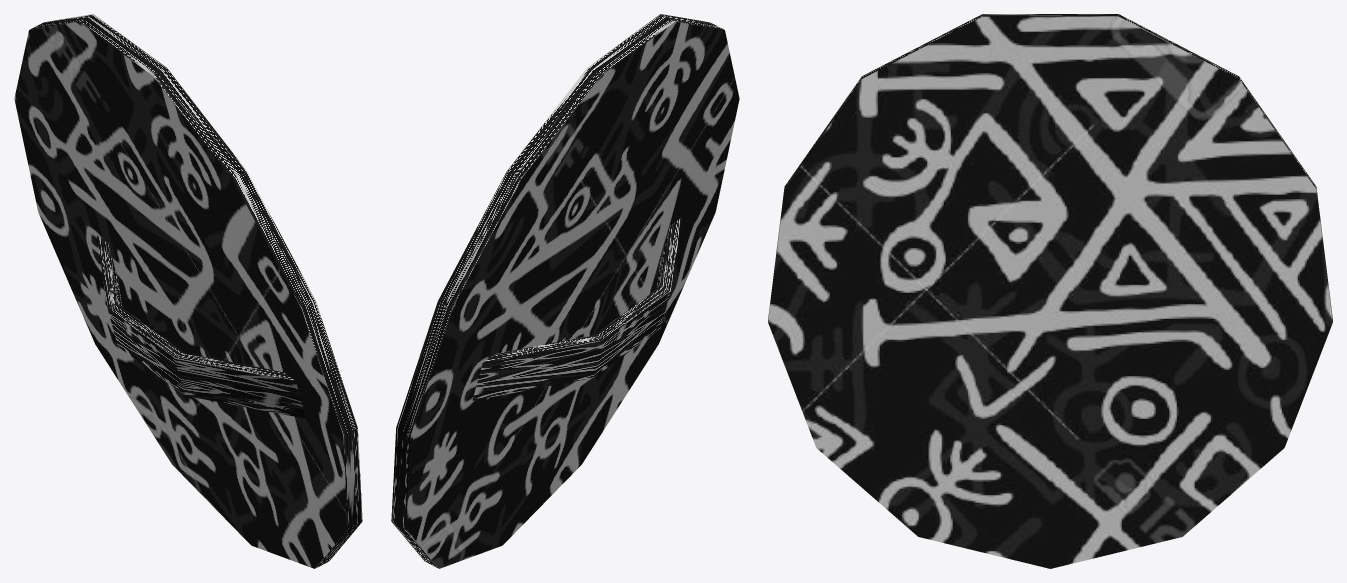
Rendered from _hield text.fbx.
The picture shows the model from 3 angles, left to right: view 1: azimuth 30°, elevation 25°; view 2: azimuth 150°, elevation 25°; view 3: azimuth 270°, elevation 25°; orthographic projection. The views are drawn at different scales.
Visible parts, largest first — view 1: polySurface8; view 2: polySurface8; view 3: polySurface8.
Boxes of the visible parts, bbox=[...] form: polySurface8: bbox=[14, 14, 362, 568]; polySurface8: bbox=[391, 14, 739, 568]; polySurface8: bbox=[768, 14, 1332, 568].
Bounding box in the file's own units: 1.48 × 5.03 × 5.21.
Materials: 1 (1 with a texture image).
